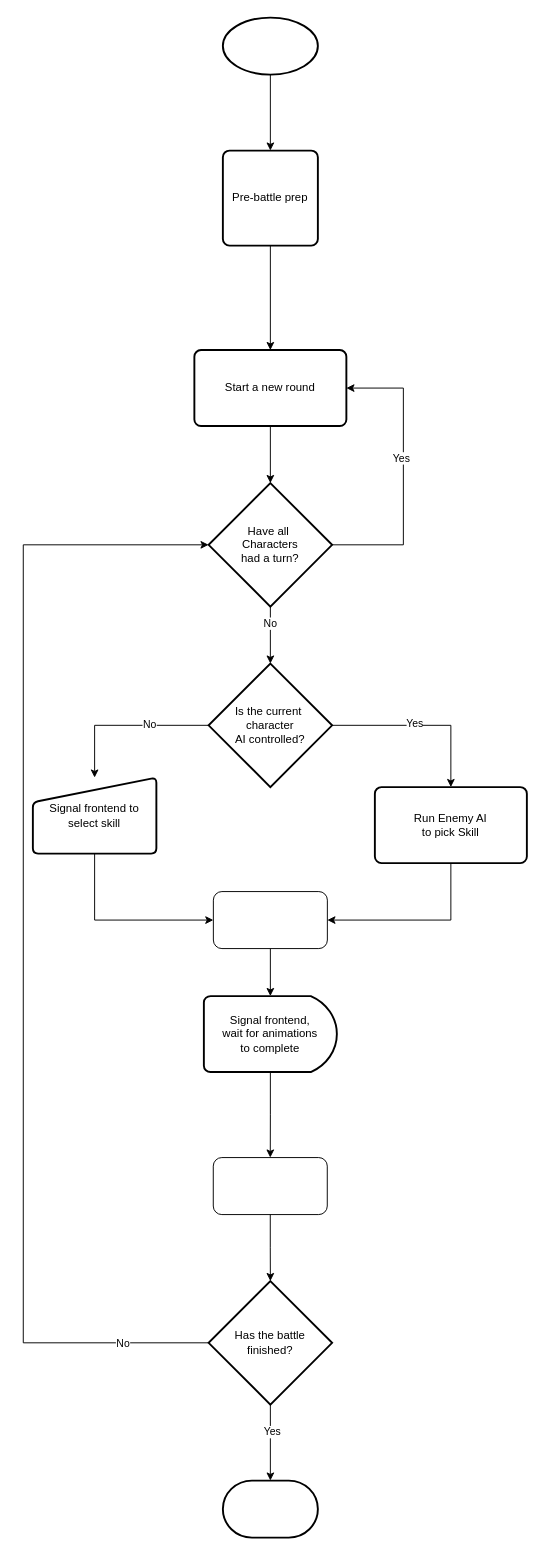
This 544x1554 diagram has some shape labels left out. The shapes that lost their labels are listed below. From the top down, each one's centre as x and y in pixels, then its label:
the point at 269,45: Battle Start
the point at 269,920: Run skill
the point at 269,1186: Cleanup Defeated Characters
the point at 269,1508: End
